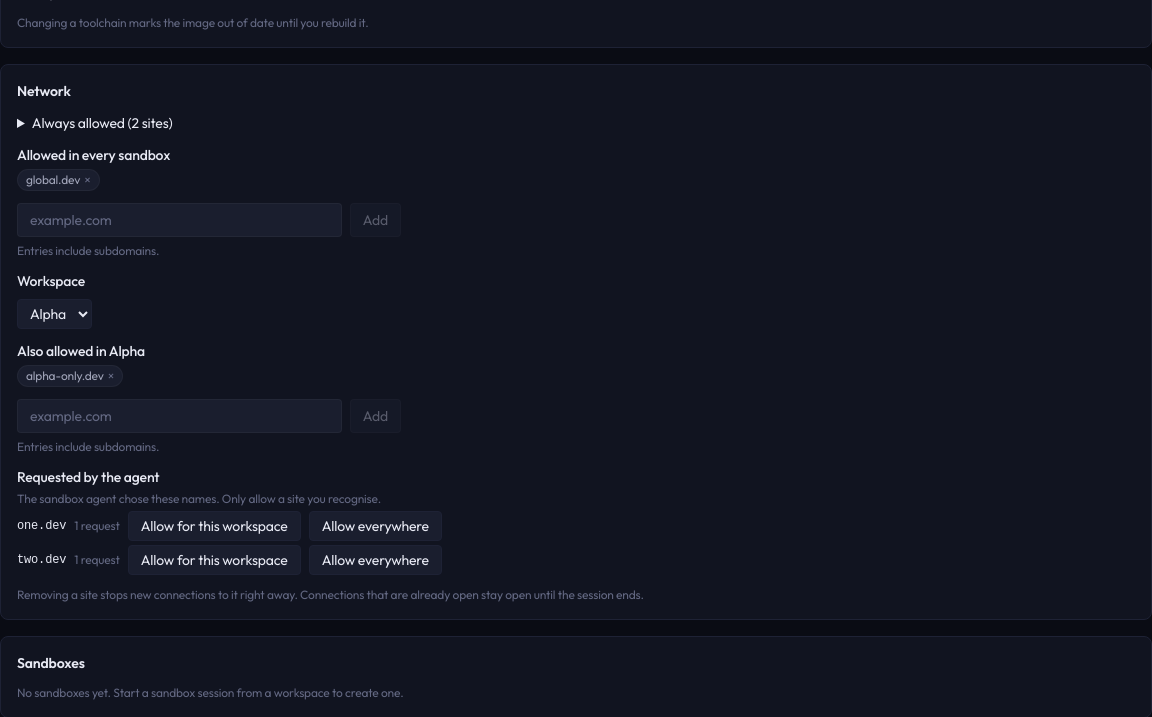
Network section › Blocked feed — "Requested by the agent" › a failed write does not wedge the queue: the next click still saves
(page scrolled)
Click the button with aria-label "Allow for this workspace: one.dev" at x=214, y=526, box 128,510 -> 301,540
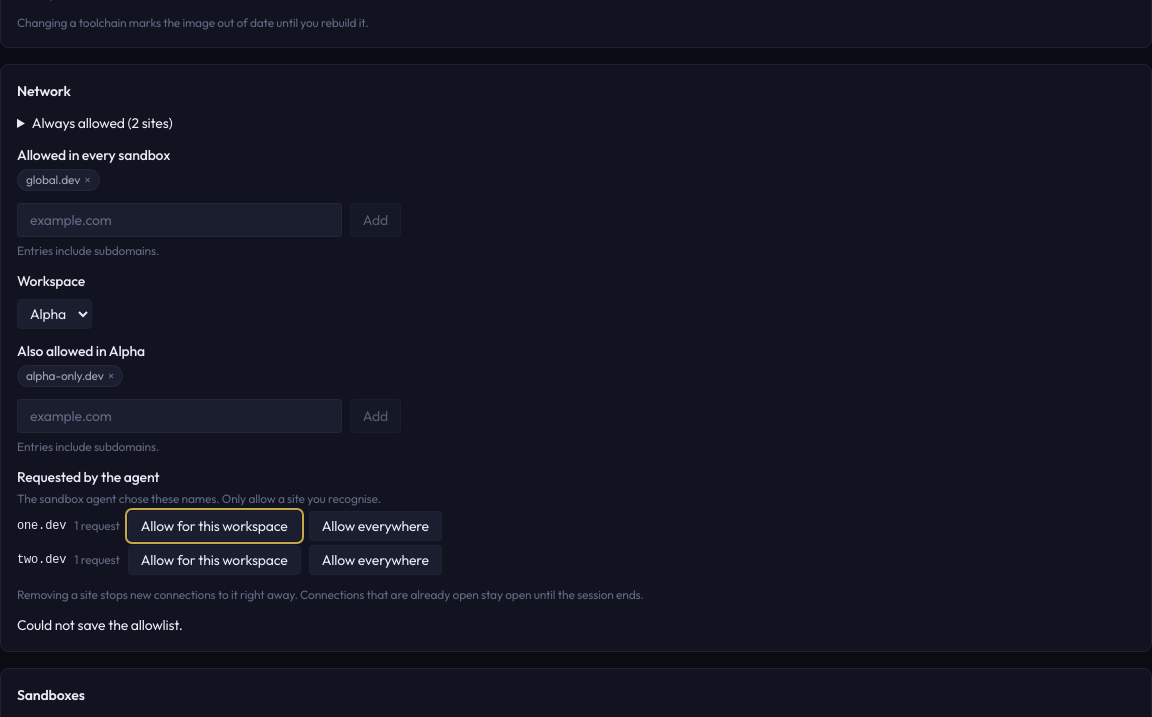
Expected: the text "Could not save the allowlist." is shown, 17,616 -> 183,634
Click the button with aria-label "Allow for this workspace: two.dev" at x=214, y=560, box 128,544 -> 301,574
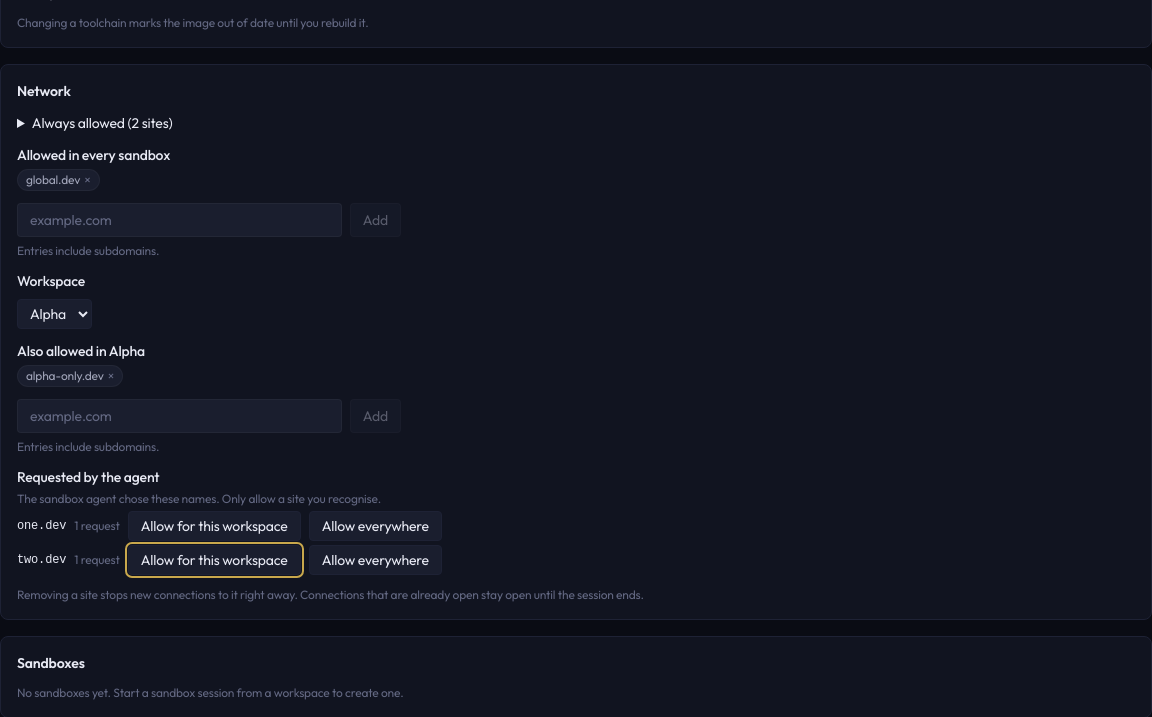
Expected: the text "Could not save the allowlist." is gone
